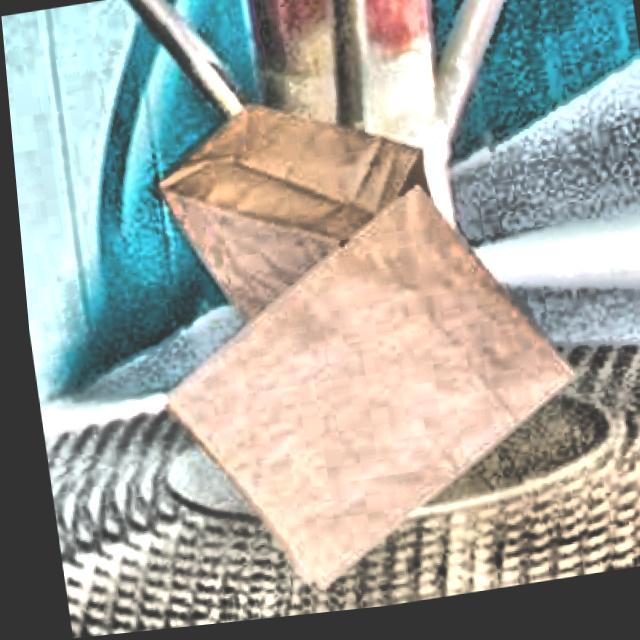Paper-bag: (117, 179, 598, 615), (130, 66, 481, 391)
